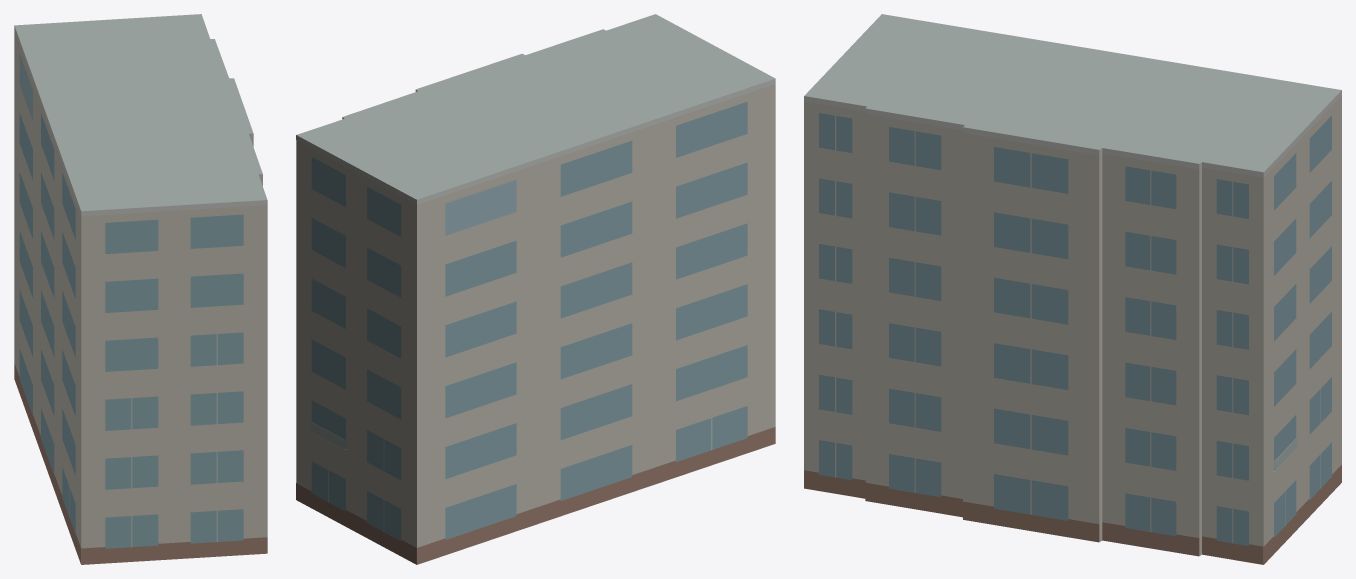
File: survey-upis-32552999.glb
3 renders of one model, left to right at view 1: azimuth 30°, elevation 25°; view 2: azimuth 150°, elevation 25°; view 3: azimuth 270°, elevation 25°, orthographic. The views are drawn at different scales.
Parts seen in each view (by area): view 1: survey-upis-32552999.tmp; view 2: survey-upis-32552999.tmp; view 3: survey-upis-32552999.tmp.
Boxes of the visible parts, <box> form: survey-upis-32552999.tmp: <box>14,14,267,564</box>; survey-upis-32552999.tmp: <box>296,14,775,564</box>; survey-upis-32552999.tmp: <box>804,14,1341,564</box>.
Size of the model in its own units: 15.02 by 17.35 by 21.55.
